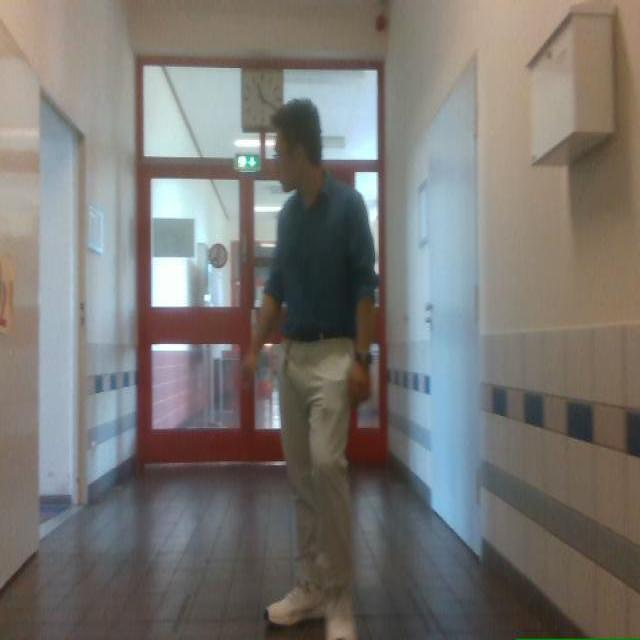humans: (245, 99, 377, 639)
